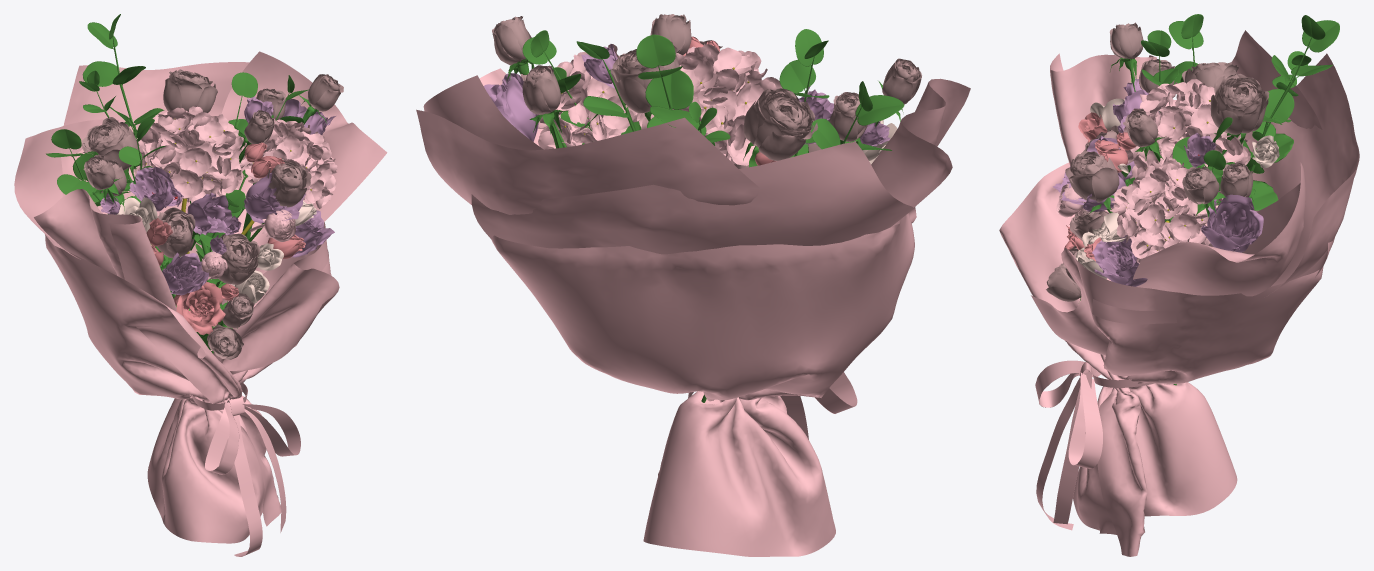
Rendered from bottom_left_bouquet.glb.
The picture shows the model from 3 angles, left to right: view 1: azimuth 30°, elevation 25°; view 2: azimuth 150°, elevation 25°; view 3: azimuth 270°, elevation 25°; orthographic projection. The views are drawn at different scales.
Visible parts, largest first — view 1: Mat3d66_725427_10_9807, vray_Material__1, Material__1134, Mat3d66_725427_13_8582, vray_16___Default, Obj3d66_725427_60_782_002.001, Mat3d66_725427_12_8986, Mat3d66_725427_11_5502, vray_Material__4, pink_green, vray_13___Default; view 2: Mat3d66_725427_10_9807, vray_Material__1, vray_16___Default, Material__1134, Mat3d66_725427_13_8582, Obj3d66_725427_60_782_002.001, vray_Material__4; view 3: Mat3d66_725427_10_9807, vray_Material__1, Material__1134, vray_16___Default, Mat3d66_725427_13_8582, Obj3d66_725427_60_782_002.001, Mat3d66_725427_12_8986, Mat3d66_725427_11_5502, vray_Material__4, upper_flower_movable, pink_green, vray_13___Default.
Boxes of the visible parts, left/top/right/bottom form: Mat3d66_725427_10_9807: left=14, top=51, right=387, bottom=543; vray_Material__1: left=82, top=69, right=343, bottom=359; Material__1134: left=134, top=105, right=337, bottom=208; Mat3d66_725427_13_8582: left=100, top=96, right=335, bottom=295; vray_16___Default: left=46, top=14, right=309, bottom=338; Obj3d66_725427_60_782_002.001: left=192, top=383, right=300, bottom=556; Mat3d66_725427_12_8986: left=146, top=142, right=305, bottom=335; Mat3d66_725427_11_5502: left=117, top=158, right=316, bottom=303; vray_Material__4: left=91, top=95, right=326, bottom=352; pink_green: left=201, top=209, right=295, bottom=280; vray_13___Default: left=69, top=38, right=289, bottom=353; Mat3d66_725427_10_9807: left=416, top=68, right=970, bottom=556; vray_Material__1: left=492, top=14, right=921, bottom=168; vray_16___Default: left=522, top=29, right=904, bottom=157; Material__1134: left=538, top=43, right=782, bottom=165; Mat3d66_725427_13_8582: left=483, top=44, right=889, bottom=146; Obj3d66_725427_60_782_002.001: left=688, top=372, right=857, bottom=439; vray_Material__4: left=506, top=58, right=903, bottom=167; Mat3d66_725427_10_9807: left=999, top=30, right=1359, bottom=556; vray_Material__1: left=1046, top=22, right=1269, bottom=301; Material__1134: left=1110, top=79, right=1250, bottom=263; vray_16___Default: left=1121, top=14, right=1339, bottom=221; Mat3d66_725427_13_8582: left=1053, top=78, right=1263, bottom=286; Obj3d66_725427_60_782_002.001: left=1035, top=360, right=1154, bottom=530; Mat3d66_725427_12_8986: left=1064, top=112, right=1136, bottom=261; Mat3d66_725427_11_5502: left=1075, top=98, right=1128, bottom=278; vray_Material__4: left=1080, top=58, right=1253, bottom=300; upper_flower_movable: left=1252, top=135, right=1279, bottom=167; pink_green: left=1056, top=183, right=1109, bottom=217; vray_13___Default: left=1125, top=38, right=1311, bottom=385.
Bounding box in the file's own units: 0.8007 × 1.01 × 0.6544.
